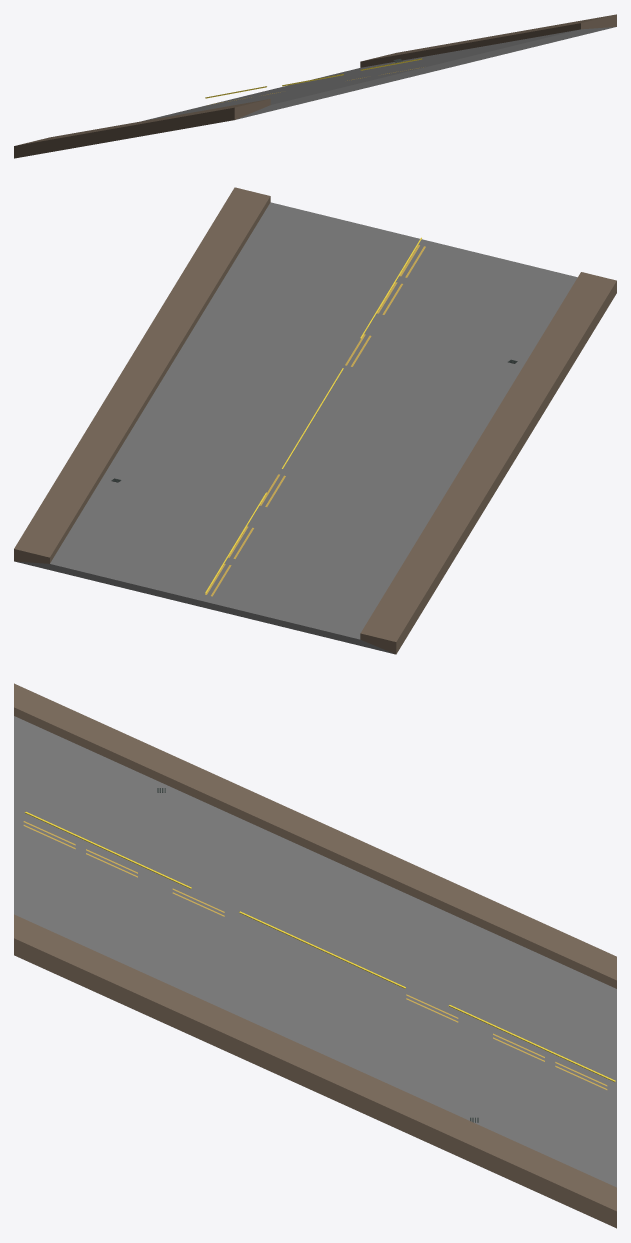
The picture shows the model from 3 angles, top to bottom: view 1: azimuth 30°, elevation 25°; view 2: azimuth 150°, elevation 25°; view 3: azimuth 270°, elevation 25°; orthographic projection. The views are drawn at different scales.
Visible parts, largest first — view 1: RD32 | archived geometry, RD32 | line, light and sprite surfaces; view 2: RD32 | archived geometry, Fitted street and landscape details, RD32 | line, light and sprite surfaces; view 3: RD32 | archived geometry, RD32 | line, light and sprite surfaces, Fitted street and landscape details.
Boxes of the visible parts, bbox=[...] form: RD32 | archived geometry: bbox=[14, 14, 616, 158]; RD32 | line, light and sprite surfaces: bbox=[205, 58, 422, 98]; RD32 | archived geometry: bbox=[14, 187, 616, 654]; Fitted street and landscape details: bbox=[111, 245, 517, 596]; RD32 | line, light and sprite surfaces: bbox=[205, 237, 421, 593]; RD32 | archived geometry: bbox=[14, 683, 616, 1228]; RD32 | line, light and sprite surfaces: bbox=[25, 811, 615, 1082]; Fitted street and landscape details: bbox=[23, 788, 607, 1122].
Size of the model in its own units: 16 by 8.5 by 16.
